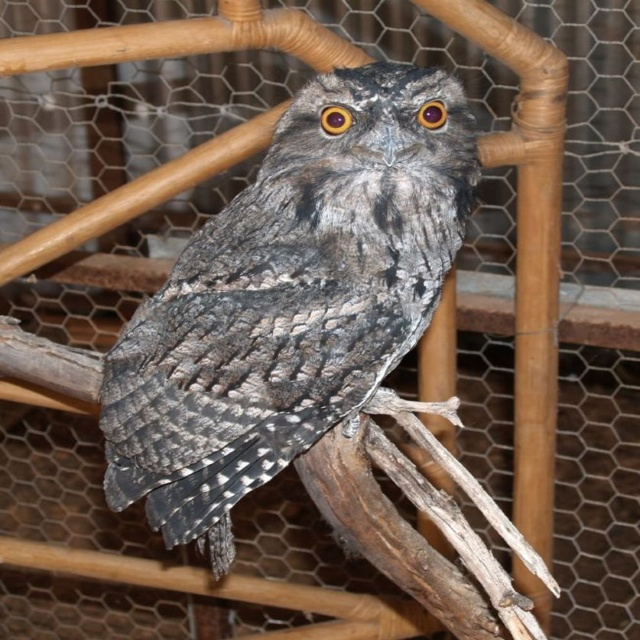Owl: (98, 60, 483, 584)
